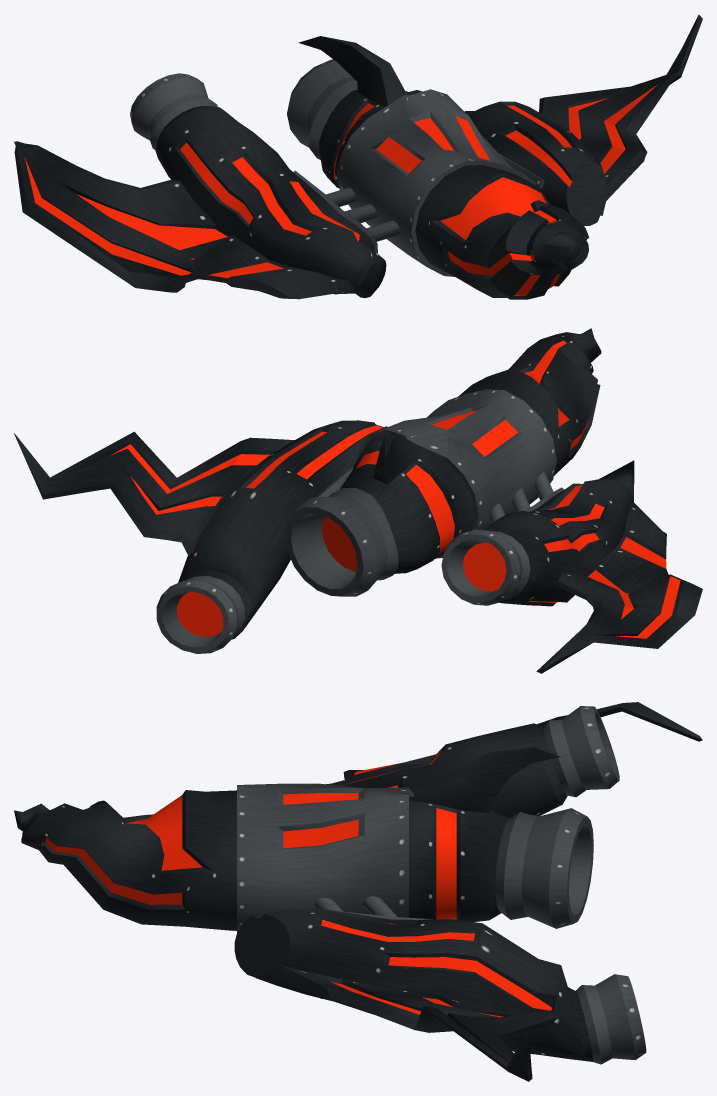
File: Bloaty_40.fbx
The picture shows the model from 3 angles, top to bottom: view 1: azimuth 30°, elevation 25°; view 2: azimuth 150°, elevation 25°; view 3: azimuth 270°, elevation 25°; orthographic projection. The views are drawn at different scales.
Parts seen in each view (by area): view 1: Boaty_40; view 2: Boaty_40; view 3: Boaty_40.
Boxes of the visible parts, left/top/right/bottom form: Boaty_40: left=14, top=15, right=702, bottom=299; Boaty_40: left=14, top=328, right=702, bottom=673; Boaty_40: left=14, top=702, right=702, bottom=1081.
Size of the model in its own units: 50.62 by 14.99 by 40.47.
